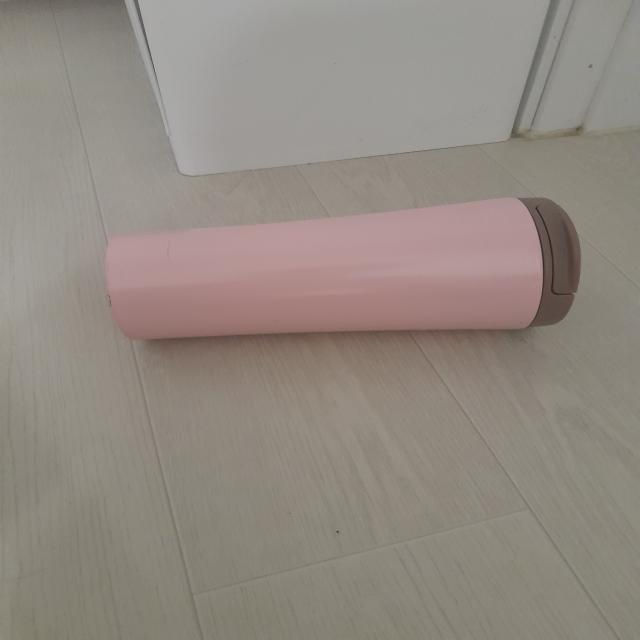waterbottle: (106, 198, 584, 342)
